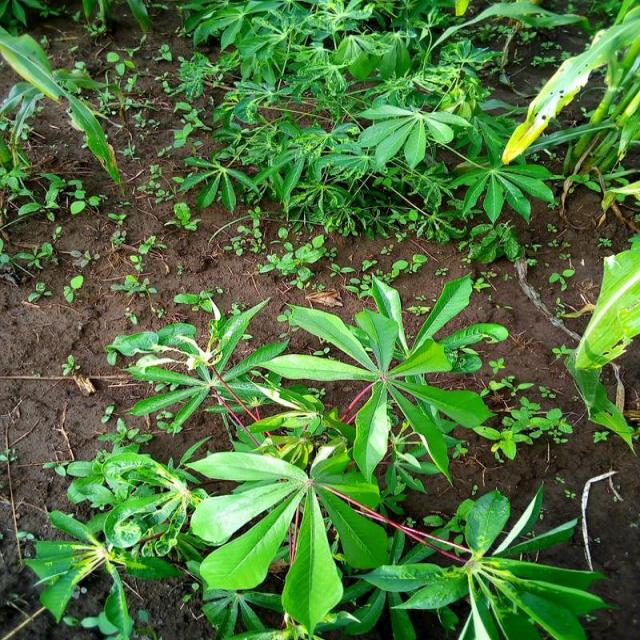cassava leaf: (255, 272, 508, 487), (184, 439, 392, 636), (500, 1, 638, 166)
